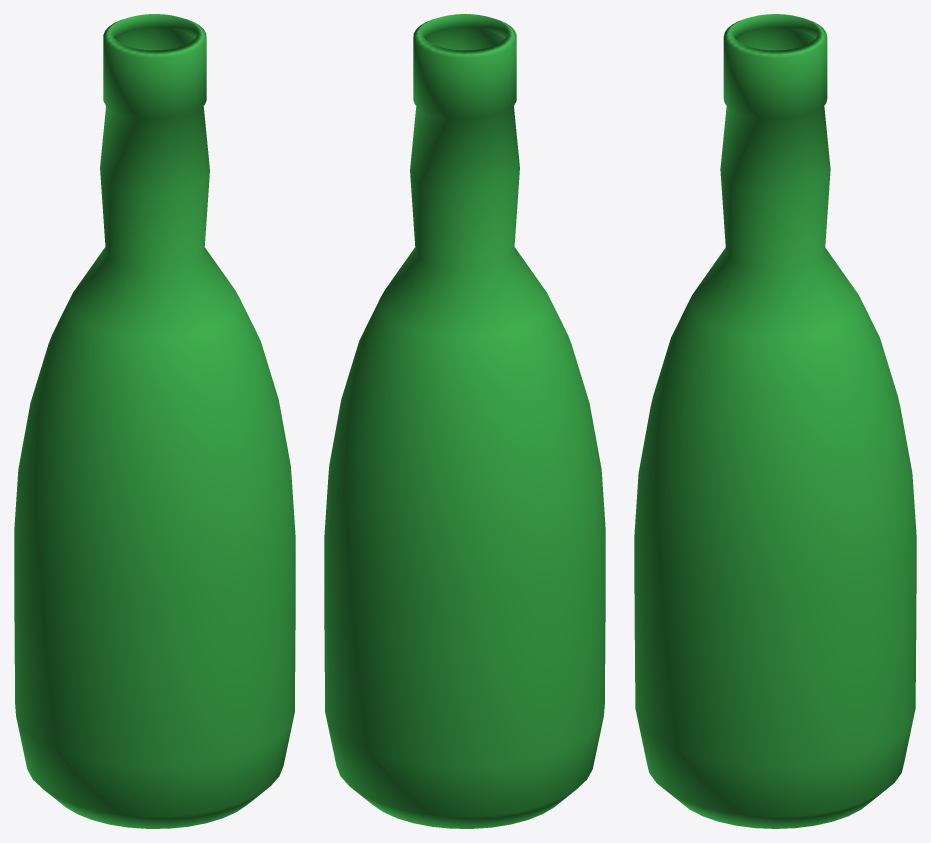
File: SM_BouteilleVerte.fbx
The picture shows the model from 3 angles, left to right: view 1: azimuth 30°, elevation 25°; view 2: azimuth 150°, elevation 25°; view 3: azimuth 270°, elevation 25°; orthographic projection.
Parts seen in each view (by area): view 1: Cylinder; view 2: Cylinder; view 3: Cylinder.
Part boxes in pixels (left/top/right/bottom): Cylinder: left=14, top=14, right=295, bottom=828; Cylinder: left=324, top=14, right=605, bottom=828; Cylinder: left=634, top=14, right=916, bottom=828.
Size of the model in its own units: 14.87 by 14.87 by 43.77.
